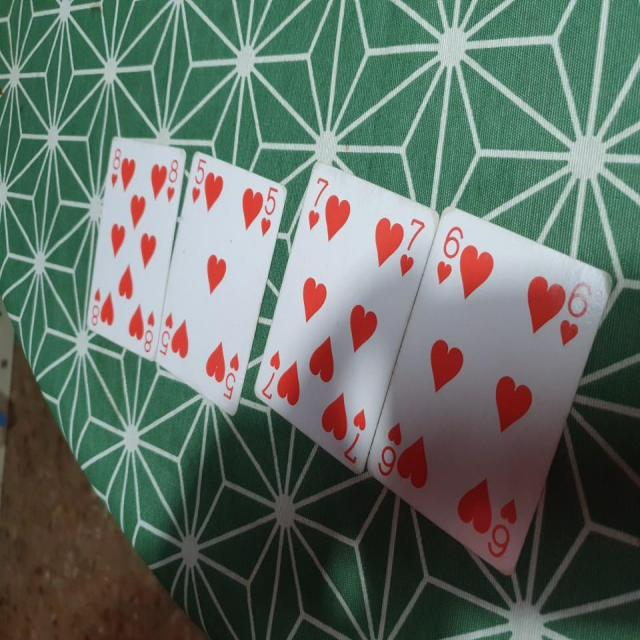5 Hearts: (148, 141, 294, 424)
6 Hearts: (372, 202, 612, 577)
7 Hearts: (256, 152, 441, 476)
8 Hearts: (81, 118, 188, 363)
